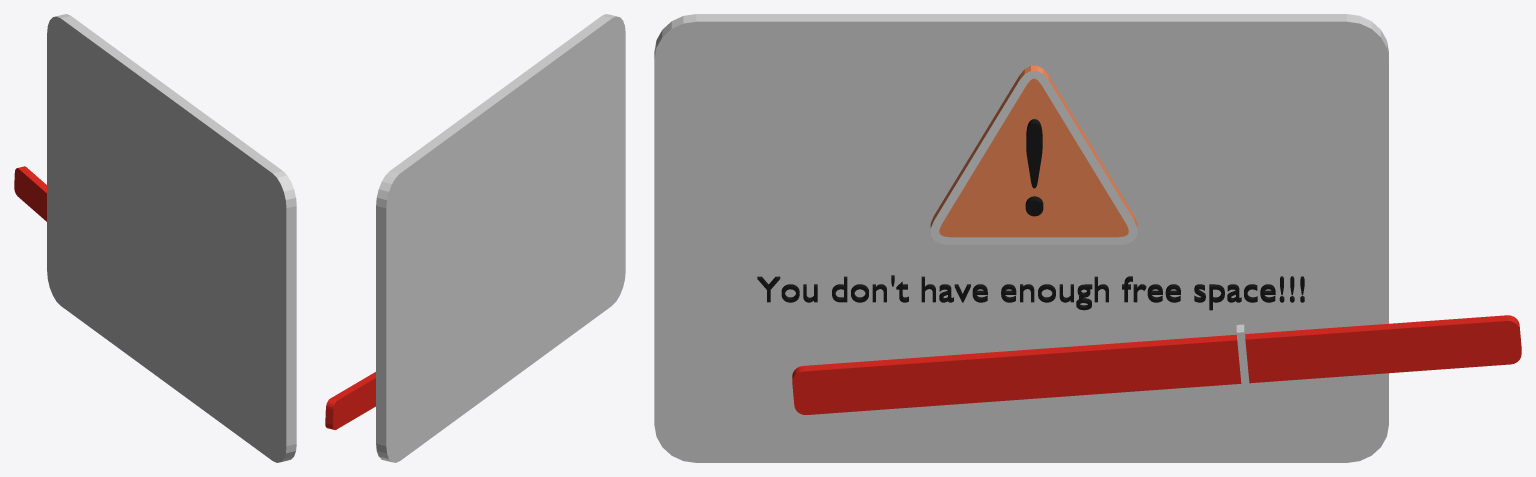
File: ErrorBox.fbx
The picture shows the model from 3 angles, left to right: view 1: azimuth 30°, elevation 25°; view 2: azimuth 150°, elevation 25°; view 3: azimuth 270°, elevation 25°; orthographic projection. The views are drawn at different scales.
Visible parts, largest first — view 1: ErrorBox, ErrorBar; view 2: ErrorBox, ErrorBar; view 3: ErrorBox, ErrorBar, ErrorIcon, ErrorMessage, ErrorMessage_!.
Boxes of the visible parts, x1=… form: ErrorBox: x1=47, y1=14, x2=296, y2=462; ErrorBar: x1=14, y1=166, x2=46, y2=221; ErrorBox: x1=376, y1=14, x2=625, y2=462; ErrorBar: x1=325, y1=372, x2=375, y2=429; ErrorBox: x1=654, y1=14, x2=1388, y2=462; ErrorBar: x1=792, y1=315, x2=1521, y2=414; ErrorIcon: x1=930, y1=65, x2=1137, y2=244; ErrorMessage: x1=757, y1=275, x2=1304, y2=310; ErrorMessage_!: x1=1025, y1=119, x2=1043, y2=216.
Bounding box in the file's own units: 86.82 × 974 × 1734.
